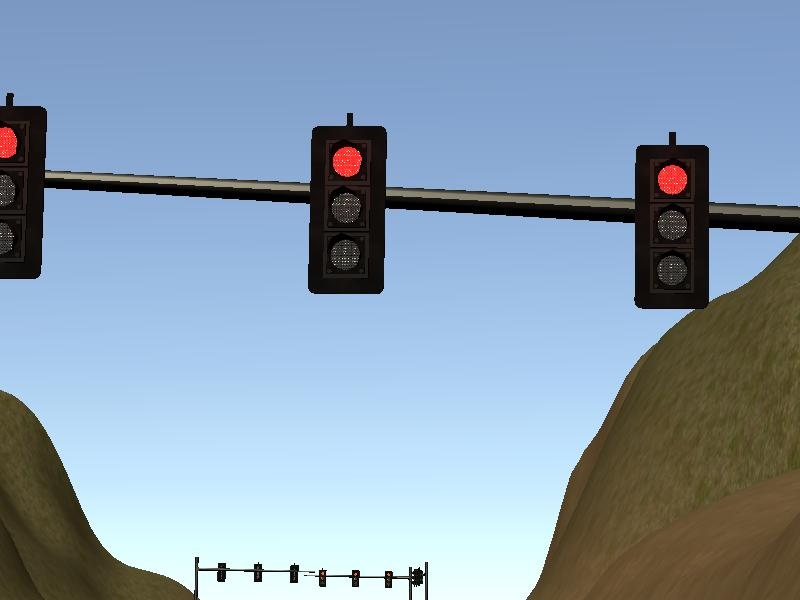RED: (307, 124, 389, 295), (636, 142, 714, 311)
